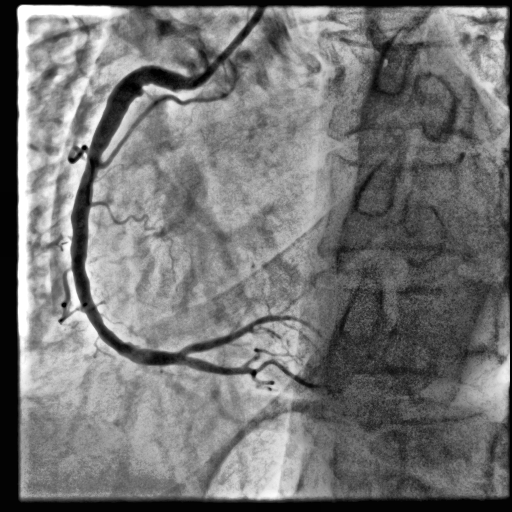pborca: (181, 314, 320, 357)
pda: (182, 356, 324, 387)
rca: (70, 65, 206, 366)
